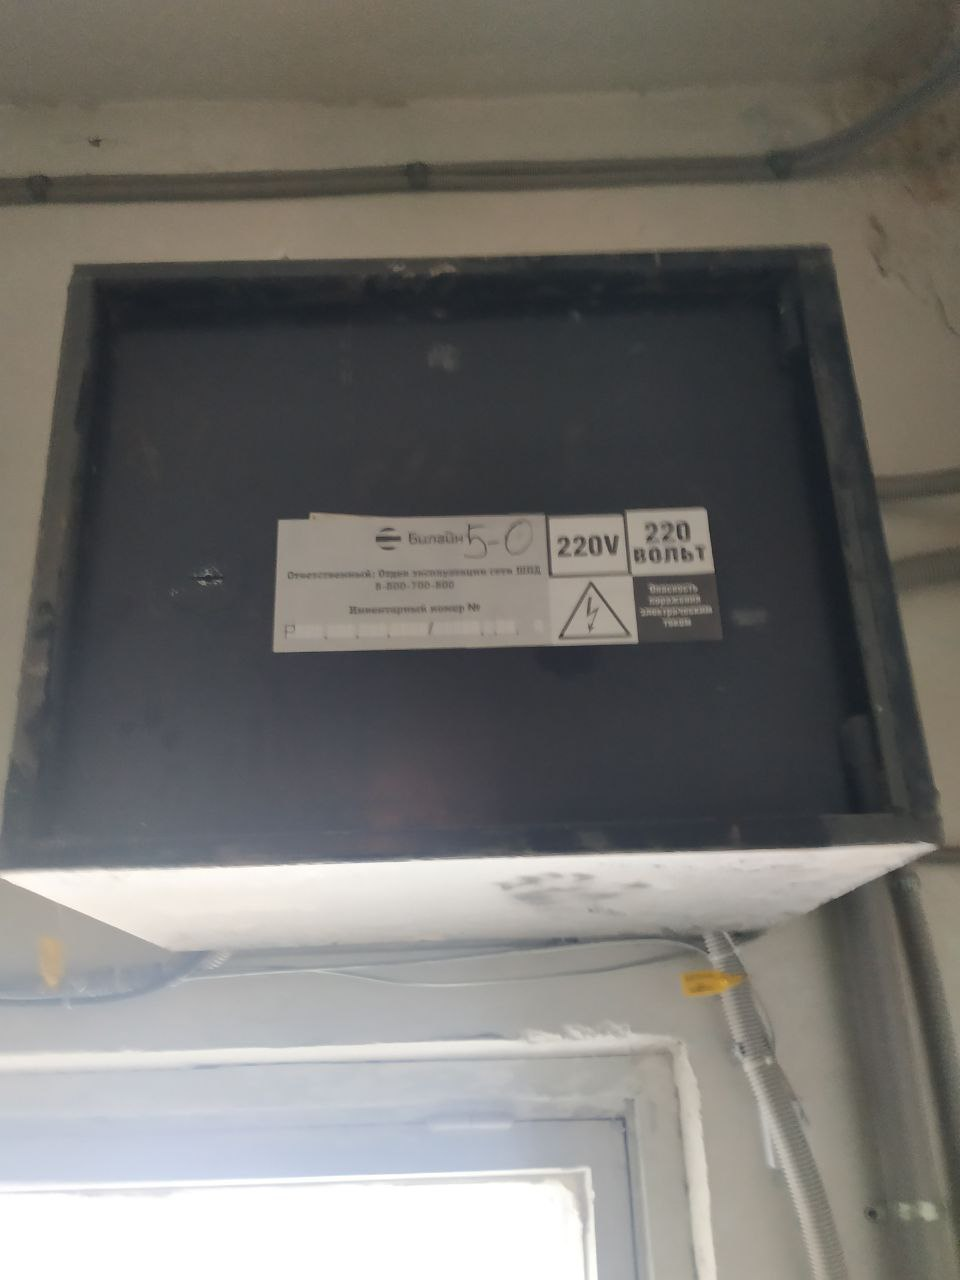shta-9m: (7, 236, 946, 958)
